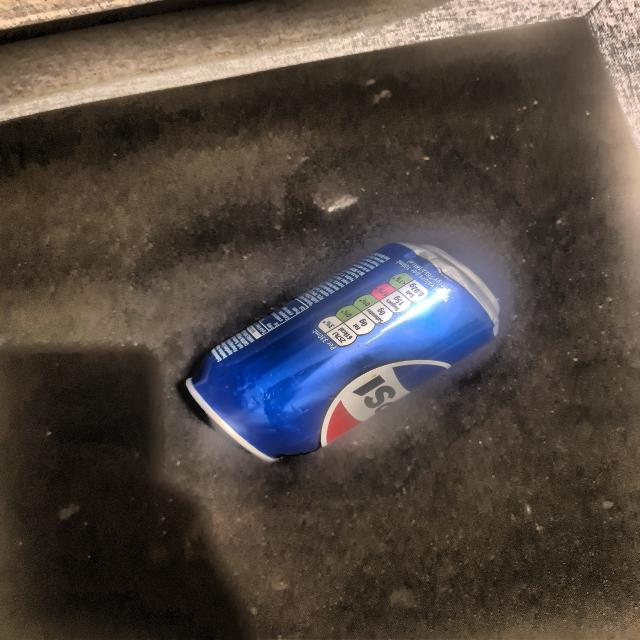pepsi-can: (167, 238, 504, 451)
